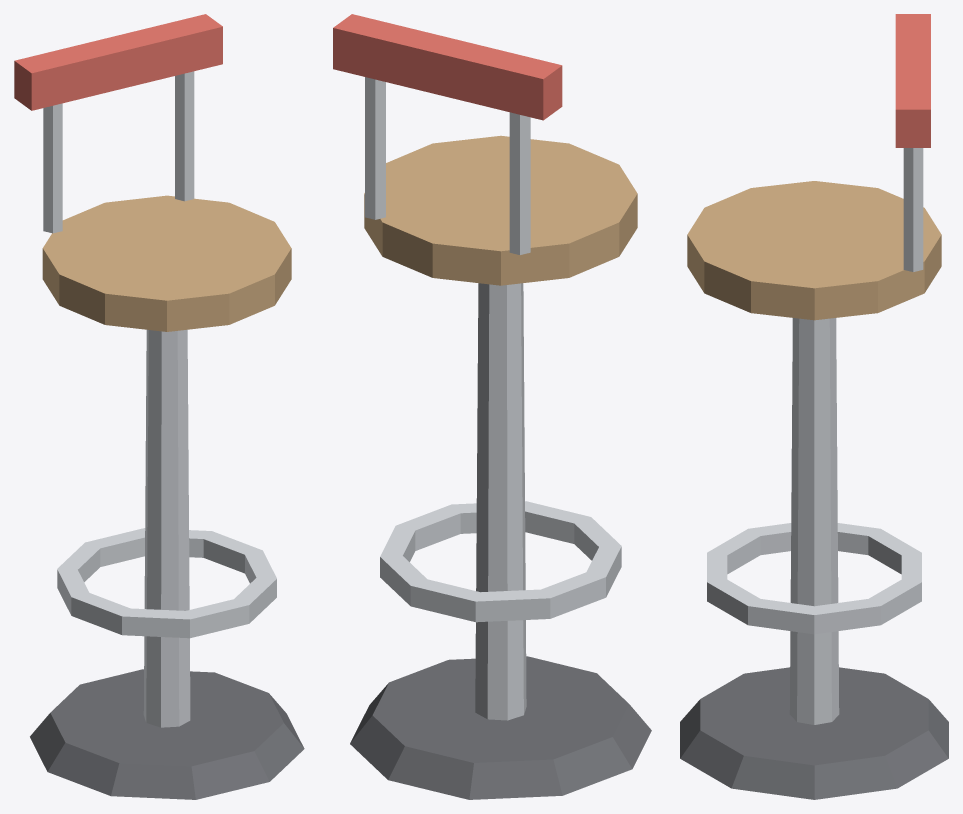
File: street-food-market-and-food-trucks-bar-stool-aed9cea8.glb
3 renders of one model, left to right at view 1: azimuth 30°, elevation 25°; view 2: azimuth 150°, elevation 25°; view 3: azimuth 270°, elevation 25°, orthographic. The views are drawn at different scales.
Parts seen in each view (by area): view 1: bar-stool-steel, bar-stool-timber, bar-stool-charcoal, bar-stool-scarlet; view 2: bar-stool-steel, bar-stool-timber, bar-stool-charcoal, bar-stool-scarlet; view 3: bar-stool-steel, bar-stool-timber, bar-stool-charcoal, bar-stool-scarlet.
Boxes of the visible parts, bbox=[...] form: bar-stool-steel: bbox=[43, 71, 276, 727]; bar-stool-timber: bbox=[42, 195, 291, 331]; bar-stool-charcoal: bbox=[30, 669, 304, 799]; bar-stool-scarlet: bbox=[14, 14, 222, 110]; bar-stool-steel: bbox=[365, 77, 621, 720]; bar-stool-timber: bbox=[364, 135, 637, 285]; bar-stool-charcoal: bbox=[350, 656, 651, 799]; bar-stool-scarlet: bbox=[333, 14, 562, 120]; bar-stool-steel: bbox=[707, 148, 923, 724]; bar-stool-timber: bbox=[687, 181, 941, 320]; bar-stool-charcoal: bbox=[680, 667, 948, 799]; bar-stool-scarlet: bbox=[895, 14, 930, 147].
Bounding box in the file's own units: 0.4 × 1.06 × 0.3804.
